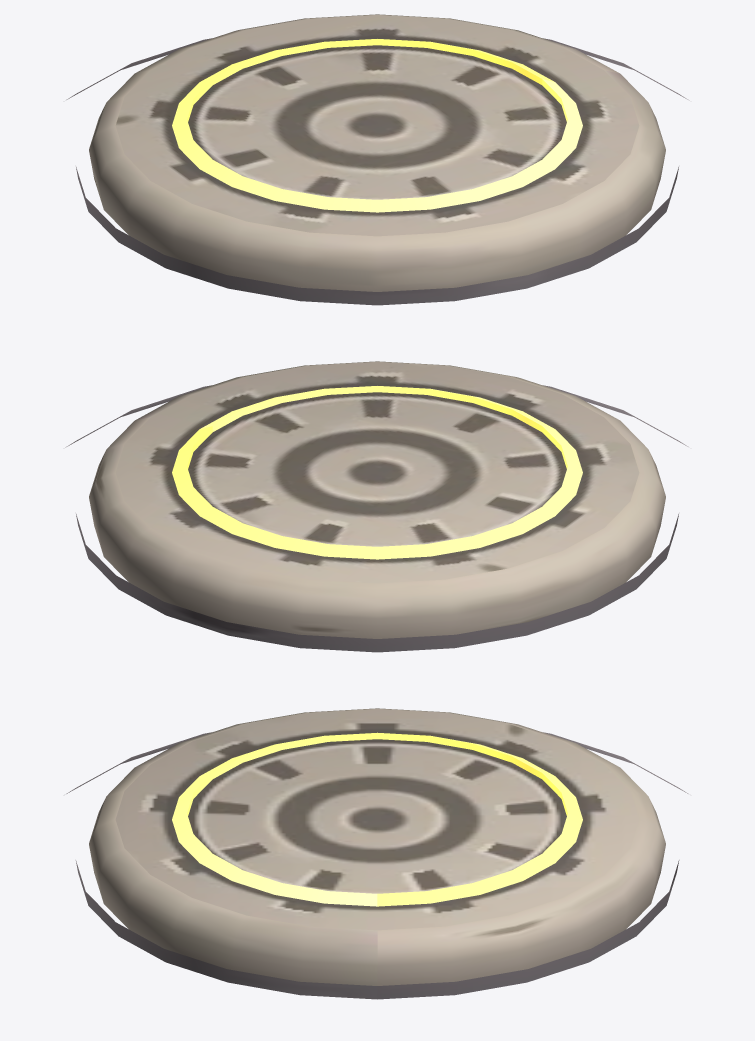
Rendered from pressure_plate.glb.
The picture shows the model from 3 angles, top to bottom: view 1: azimuth 30°, elevation 25°; view 2: azimuth 150°, elevation 25°; view 3: azimuth 270°, elevation 25°; orthographic projection.
Visible parts, largest first — view 1: Top, pressure_plate; view 2: Top, pressure_plate; view 3: Top, pressure_plate.
Part boxes in pixels (bbox=[...]): Top: bbox=[89, 14, 665, 291]; pressure_plate: bbox=[66, 38, 689, 305]; Top: bbox=[89, 361, 665, 638]; pressure_plate: bbox=[65, 385, 688, 652]; Top: bbox=[89, 708, 665, 985]; pressure_plate: bbox=[66, 732, 688, 999].
Size of the model in its own units: 2.72 by 0.2463 by 2.72.
Materials: 2 (2 with a texture image).
